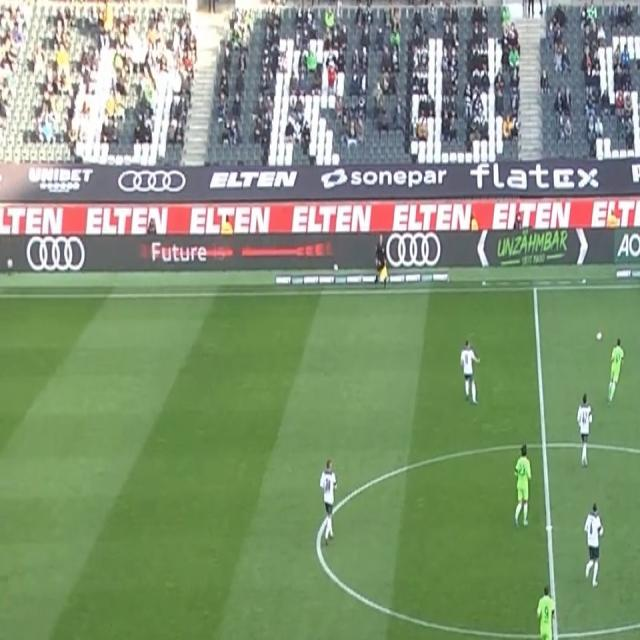ball: (596, 330, 603, 343)
